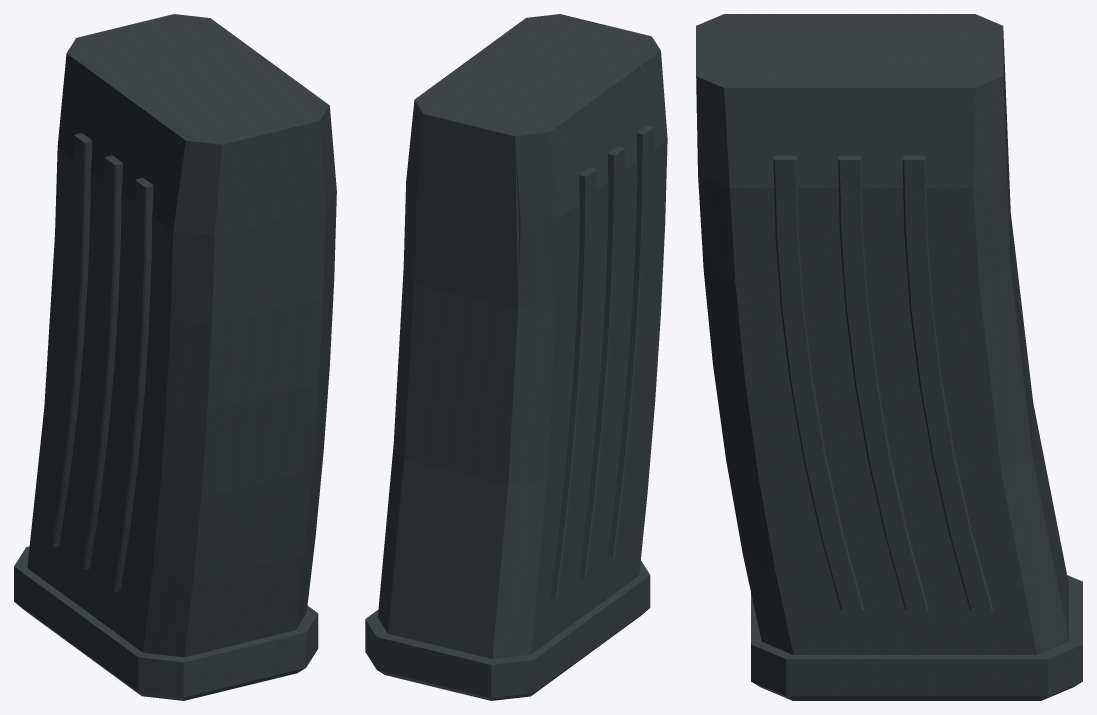
Rendered from val_10.glb.
The picture shows the model from 3 angles, left to right: view 1: azimuth 30°, elevation 25°; view 2: azimuth 150°, elevation 25°; view 3: azimuth 270°, elevation 25°; orthographic projection. The views are drawn at different scales.
Visible parts, largest first — view 1: val_10_individual_shell, val_10_individual_shell.001; view 2: val_10_individual_shell.001, val_10_individual_shell; view 3: val_10_individual_shell, val_10_individual_shell.001.
Boxes of the visible parts, x1,y1,x2,y2 form: val_10_individual_shell: (14,14,336,700); val_10_individual_shell.001: (27,235,170,648); val_10_individual_shell.001: (377,114,664,658); val_10_individual_shell: (365,14,667,700); val_10_individual_shell: (696,14,1082,700); val_10_individual_shell.001: (735,31,1068,654).
Bounding box in the file's own units: 0.0748 × 0.229 × 0.1322.
1 material, 1 textured.
